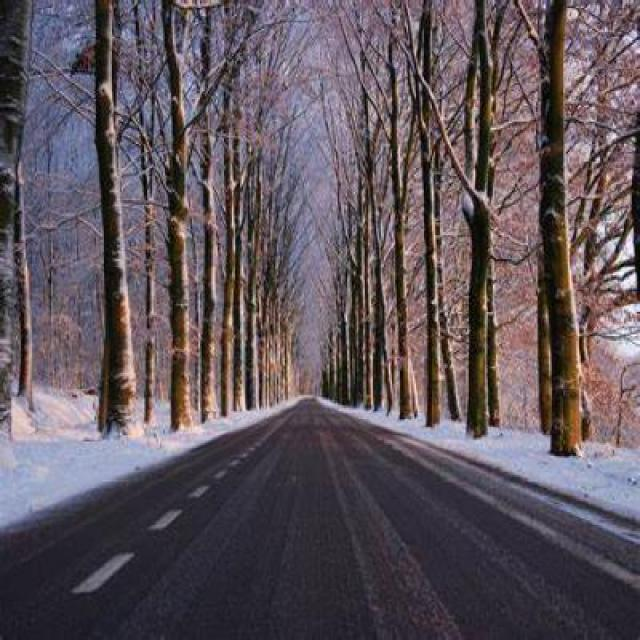ice-road: (0, 399, 640, 640)
